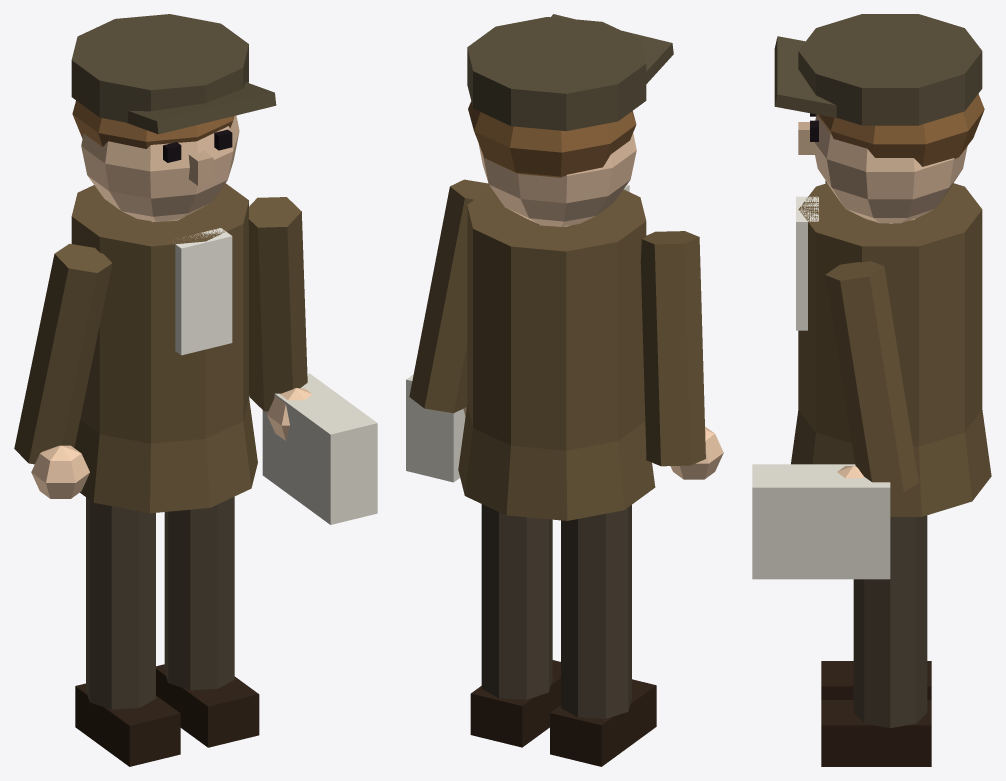
The model's file is przechodzien_2.glb.
3 renders of one model, left to right at view 1: azimuth 30°, elevation 25°; view 2: azimuth 150°, elevation 25°; view 3: azimuth 270°, elevation 25°, orthographic.
Visible parts, largest first — view 1: cialo, reka_p, noga_l, noga_p, reka_l; view 2: cialo, noga_l, noga_p, reka_l, reka_p; view 3: cialo, reka_p, noga_p, noga_l.
Boxes of the visible parts, box(x1,y1,x2,y2) form: cialo: box(71, 14, 276, 513); reka_p: box(248, 197, 377, 524); noga_l: box(75, 497, 180, 766); noga_p: box(156, 496, 259, 747); reka_l: box(14, 243, 112, 498); cialo: box(458, 14, 673, 520); noga_l: box(550, 505, 656, 766); noga_p: box(470, 504, 560, 747); reka_l: box(640, 231, 723, 479); reka_p: box(406, 179, 490, 482); cialo: box(774, 14, 991, 516); reka_p: box(752, 261, 918, 579); noga_p: box(821, 515, 931, 766); noga_l: box(821, 661, 931, 699).
Bounding box in the file's own units: 0.7363 × 1.64 × 0.52.
